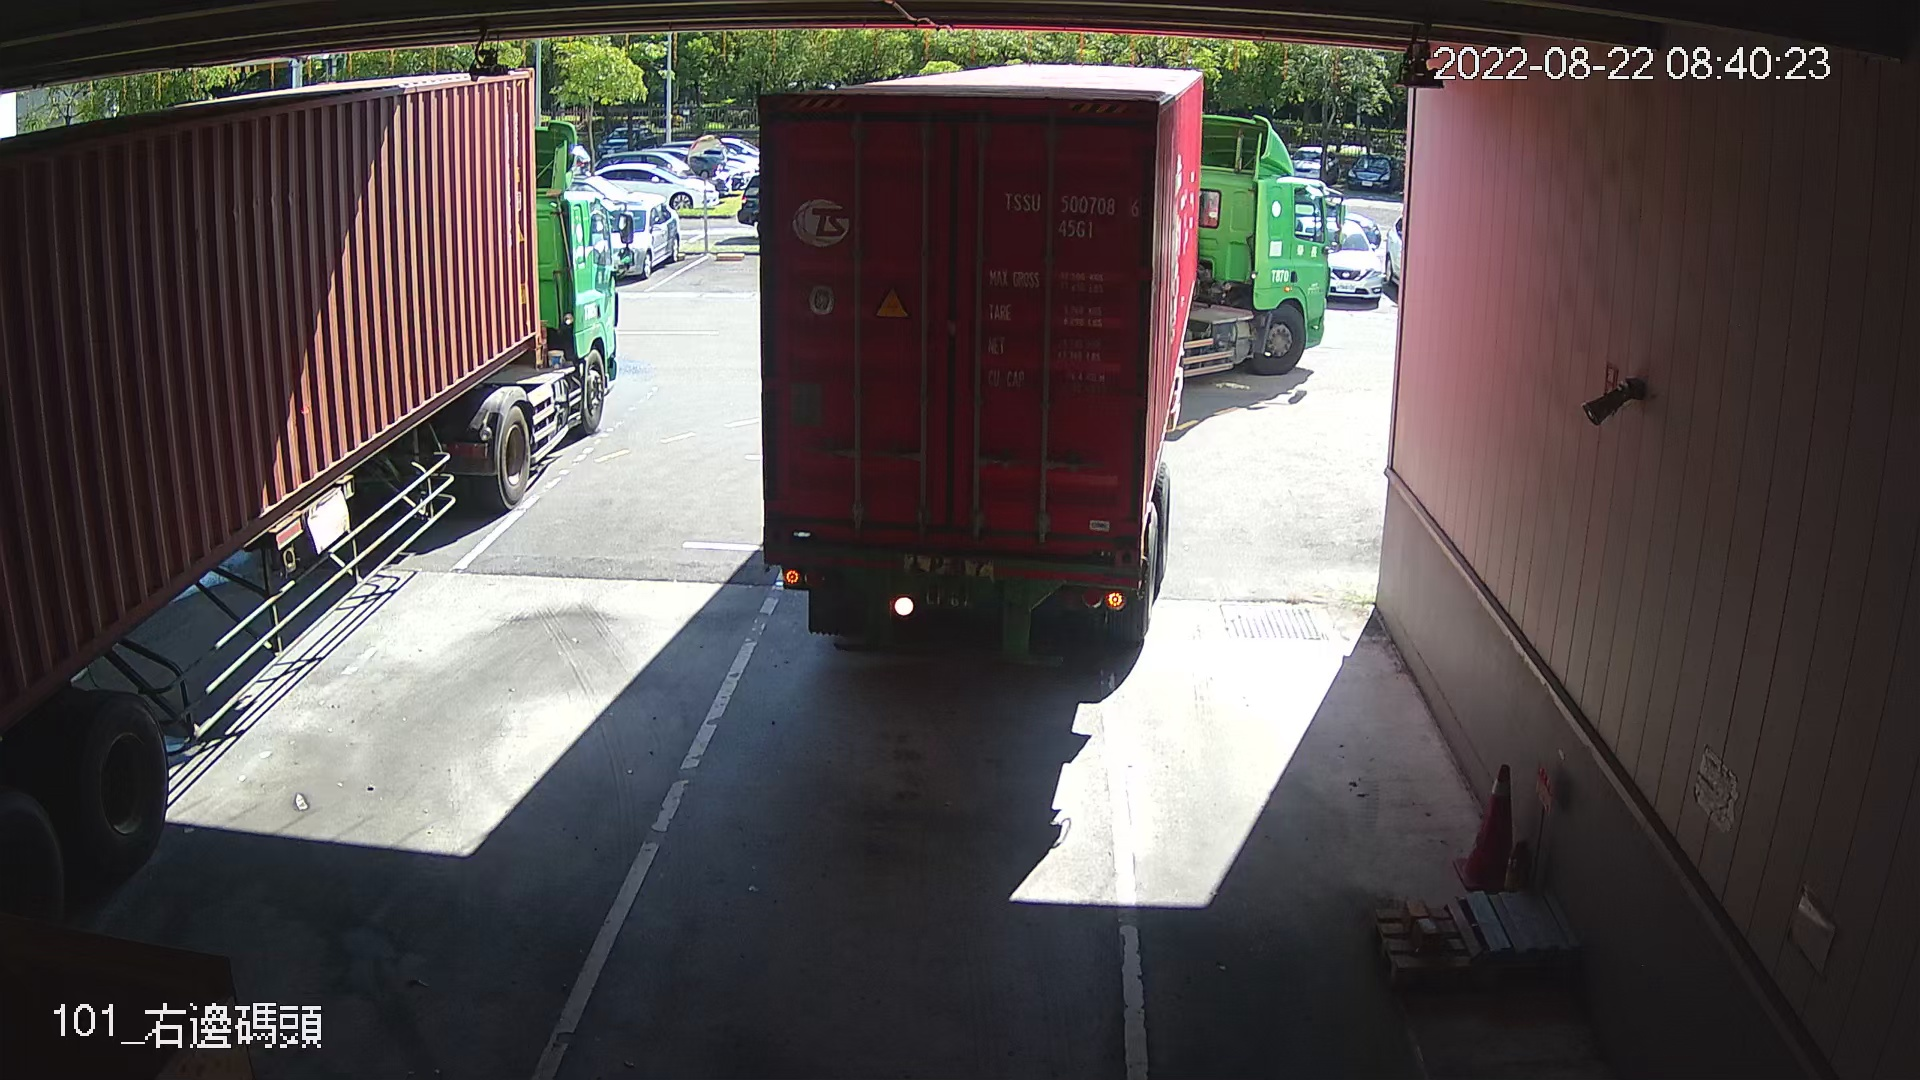container: (992, 179, 1147, 249)
